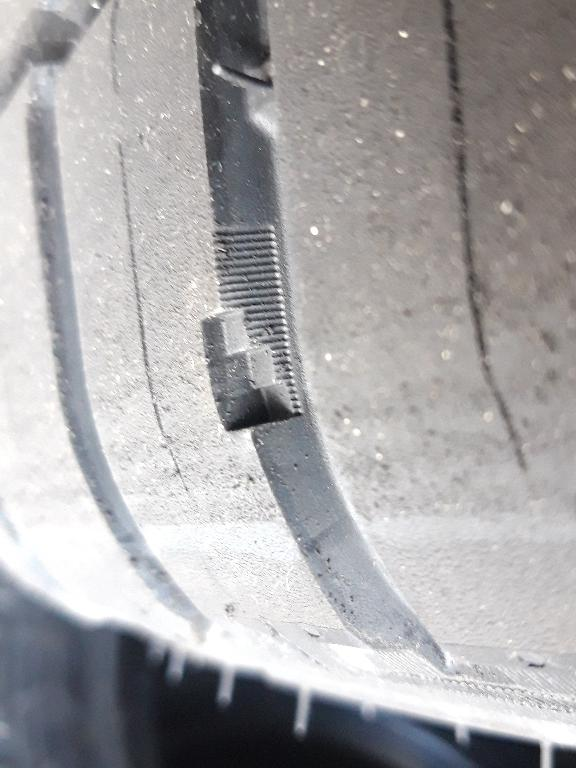temoin:75: (190, 268, 311, 442)
